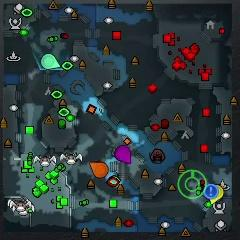Other: (177, 169, 207, 200), (204, 184, 218, 199)
p2: (40, 52, 60, 69)
p3: (115, 146, 132, 165)
p4: (208, 183, 225, 204)
p5: (90, 160, 109, 179)
